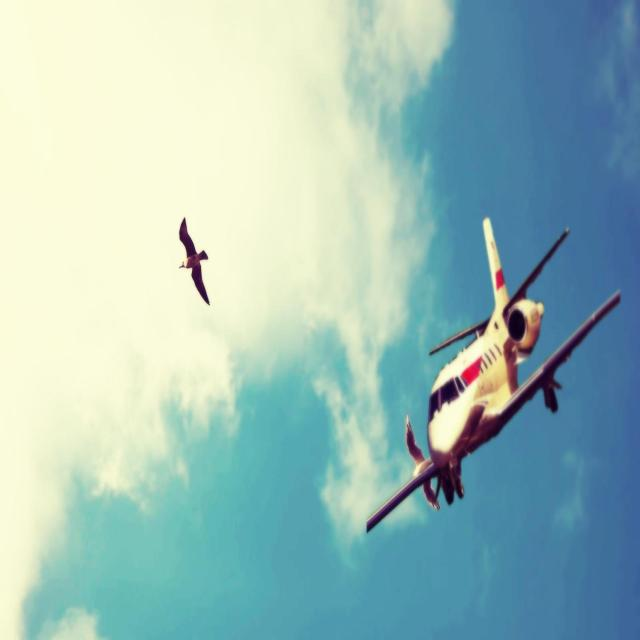airplane: (365, 215, 621, 532)
